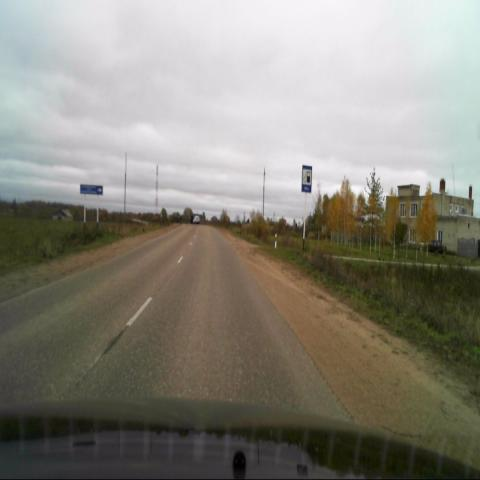7_3: (302, 165, 312, 194)
